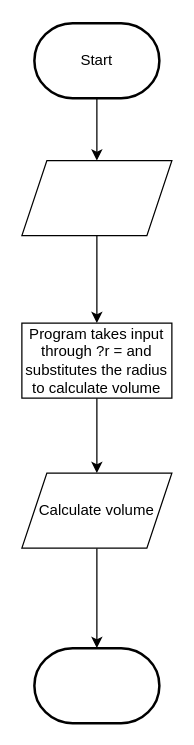
This 194x745 diagram has some shape labels left out. Here are the shapes that lost their labels. From the top down, the centre of each, then its label:
the point at 96,197: use types radius into URL
the point at 96,685: Stop
